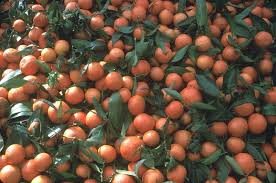orange: (121, 135, 146, 159), (161, 98, 183, 119), (227, 114, 247, 136), (134, 113, 154, 131), (221, 45, 242, 62), (106, 71, 123, 89)
